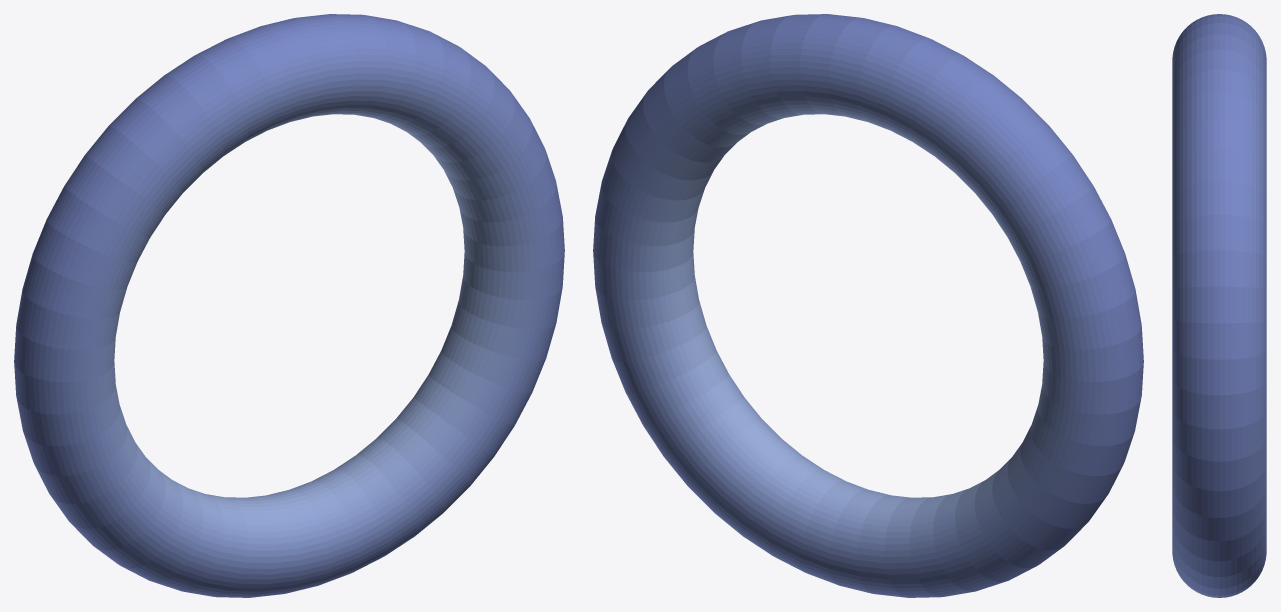
3 renders of one model, left to right at view 1: azimuth 30°, elevation 25°; view 2: azimuth 150°, elevation 25°; view 3: azimuth 270°, elevation 25°, orthographic. The views are drawn at different scales.
Parts seen in each view (by area): view 1: world; view 2: world; view 3: world.
Part boxes in pixels (x1=…): world: x1=14, y1=14, x2=564, y2=597; world: x1=593, y1=14, x2=1143, y2=597; world: x1=1172, y1=14, x2=1266, y2=597.
Bounding box in the file's own units: 22.27 × 22.22 × 3.59.
